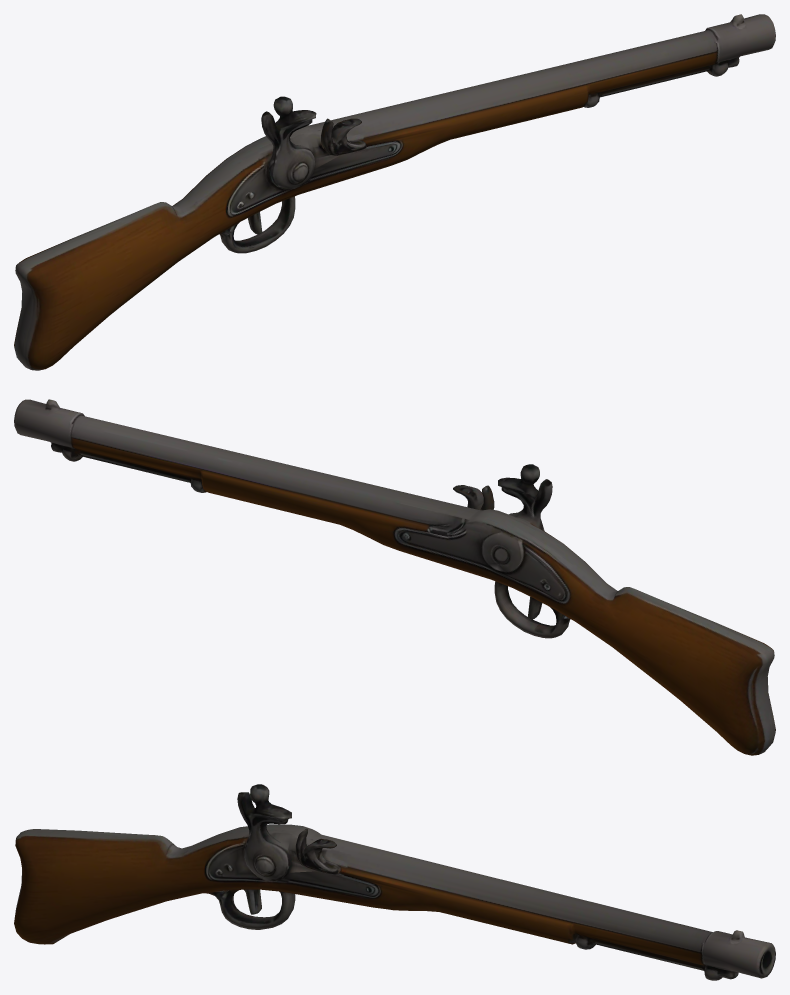
The model's file is musket_rifle_11b81839_v1.glb.
3 renders of one model, top to bottom at view 1: azimuth 30°, elevation 25°; view 2: azimuth 150°, elevation 25°; view 3: azimuth 330°, elevation 25°, orthographic.
Parts seen in each view (by area): view 1: mesh_input; view 2: mesh_input; view 3: mesh_input.
Boxes of the visible parts, x1,y1,x2,y2 form: mesh_input: (14, 14, 775, 370); mesh_input: (14, 399, 775, 755); mesh_input: (14, 784, 775, 980).
Size of the model in its own units: 1.9 by 0.5351 by 0.1425.
1 material, 1 textured.
